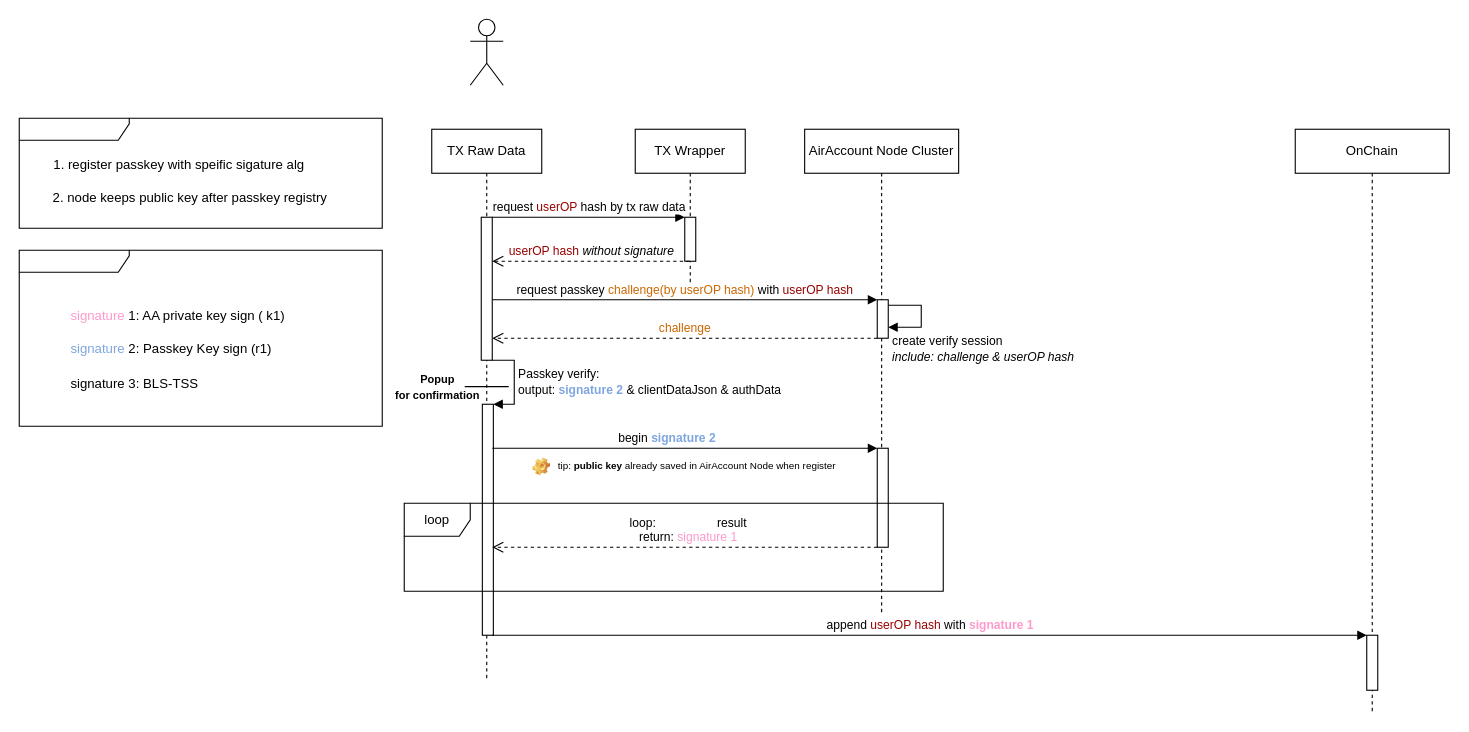
This 1469x732 diagram has some shape labels left out. The shapes that lost their labels are listed below. From the top down, each one's box as (x1, y1, x2, y2) in pixels, then its label:
(469, 18, 503, 85): User
(18, 117, 382, 228): Pre-Condition
(18, 249, 382, 426): Concent
